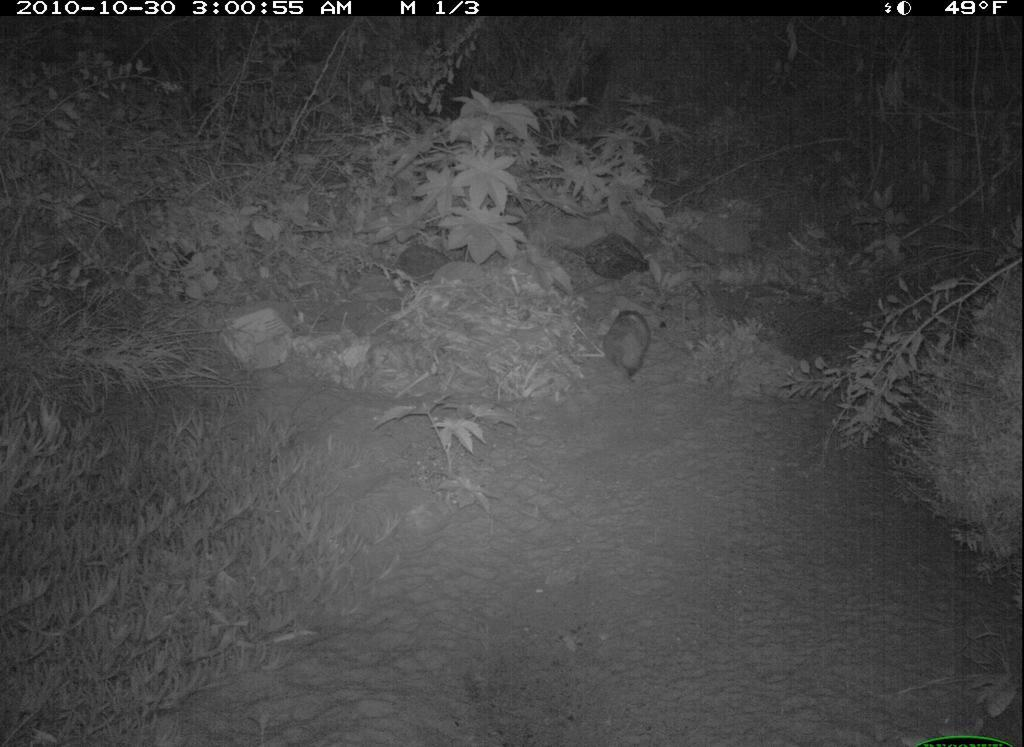opossum: (585, 296, 675, 387)
